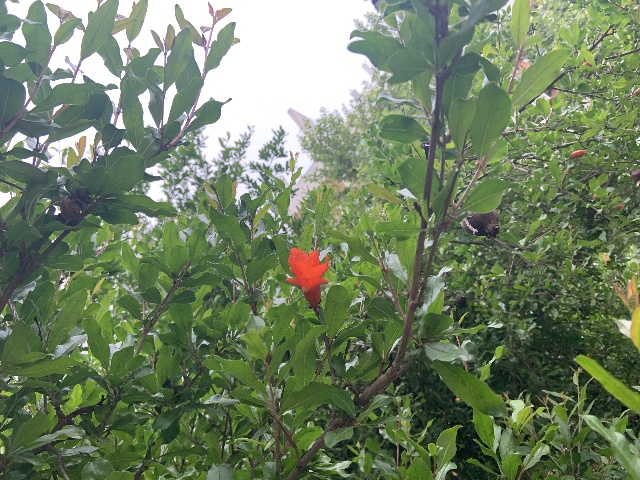bud: (570, 149, 585, 158), (613, 204, 624, 210), (582, 61, 590, 66), (593, 193, 597, 199)
flower: (285, 247, 329, 307)
